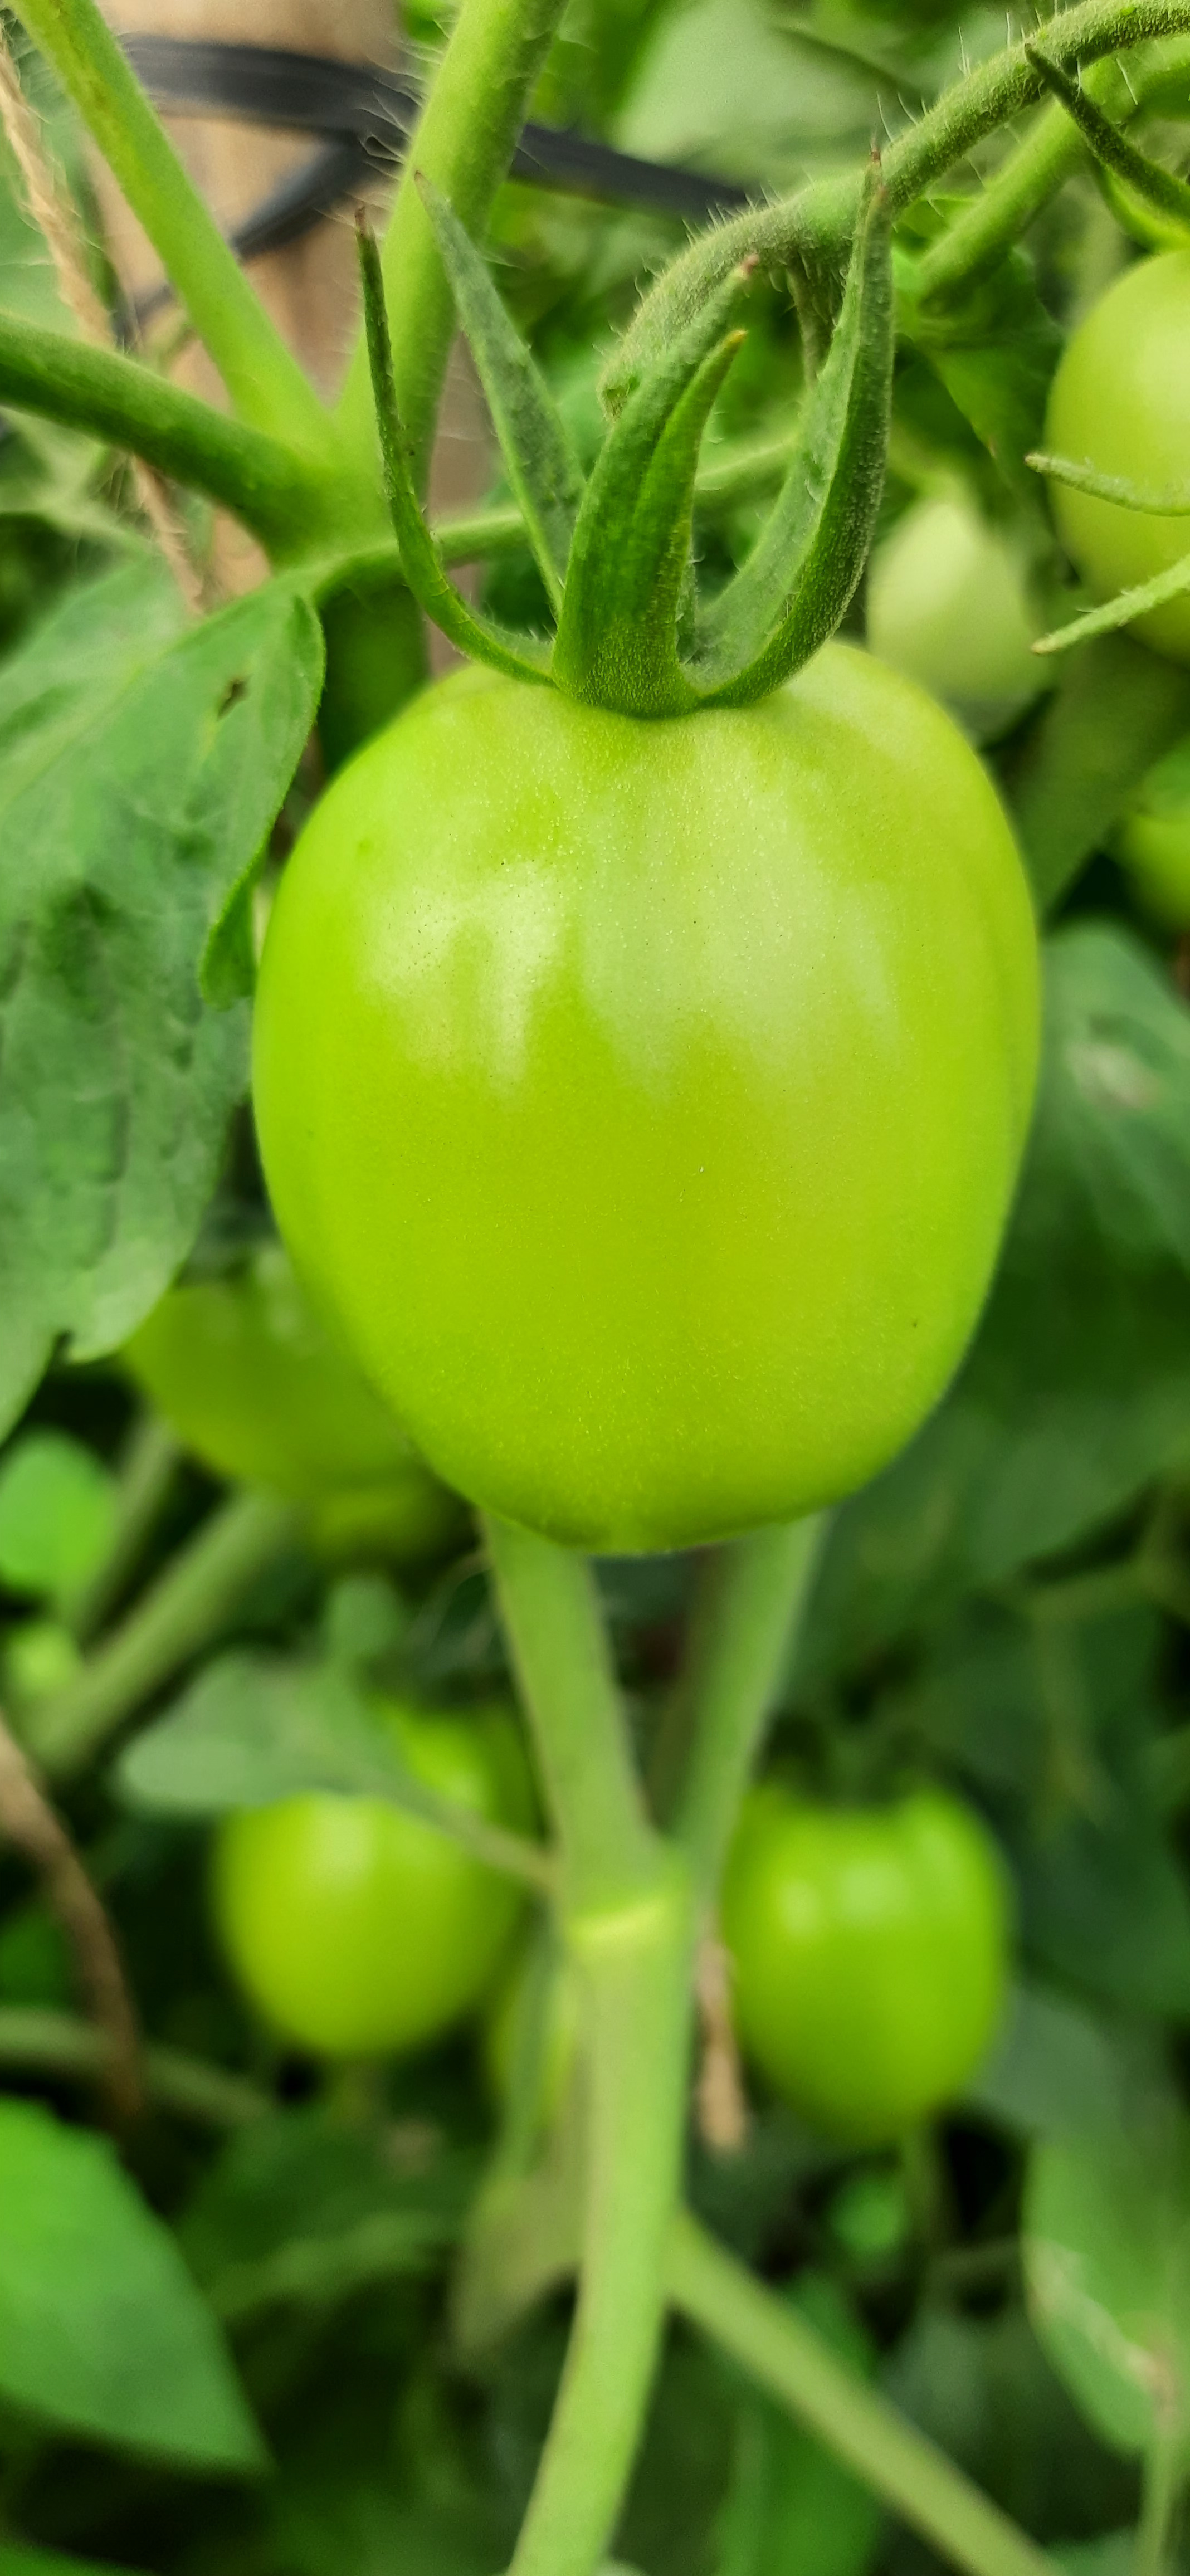raw_tomato: (217, 517, 1067, 1582)
